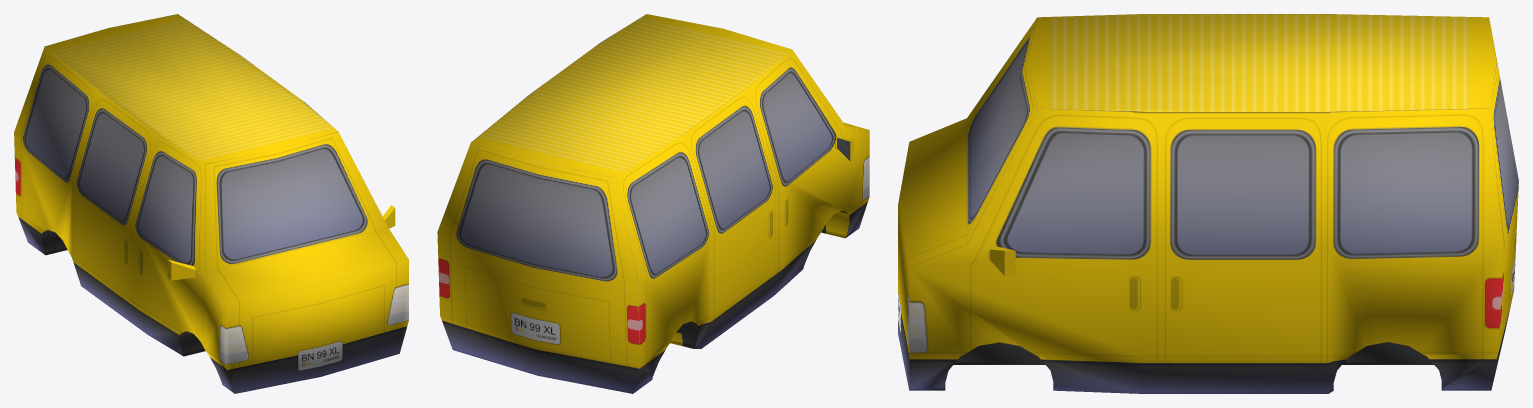
Rendered from van.obj.
3 views of the same model, side by side, from view 1: azimuth 30°, elevation 25°; view 2: azimuth 150°, elevation 25°; view 3: azimuth 270°, elevation 25° (orthographic). The views are drawn at different scales.
Visible parts, largest first — view 1: Mesh; view 2: Mesh; view 3: Mesh.
Part boxes in pixels (<box>): Mesh: <box>14,14,408,393</box>; Mesh: <box>437,14,869,393</box>; Mesh: <box>898,14,1518,393</box>.
Size of the model in its own units: 1.26 by 1.03 by 2.15.
Materials: 1 (1 with a texture image).
